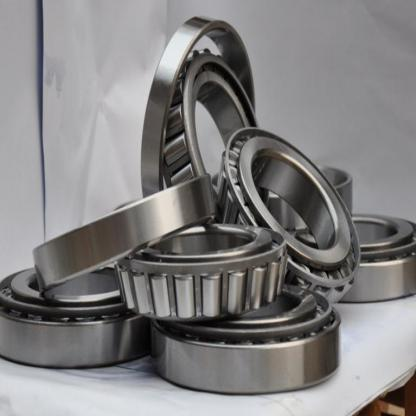FOD: (148, 283, 344, 389), (0, 261, 165, 366), (115, 220, 289, 318)
